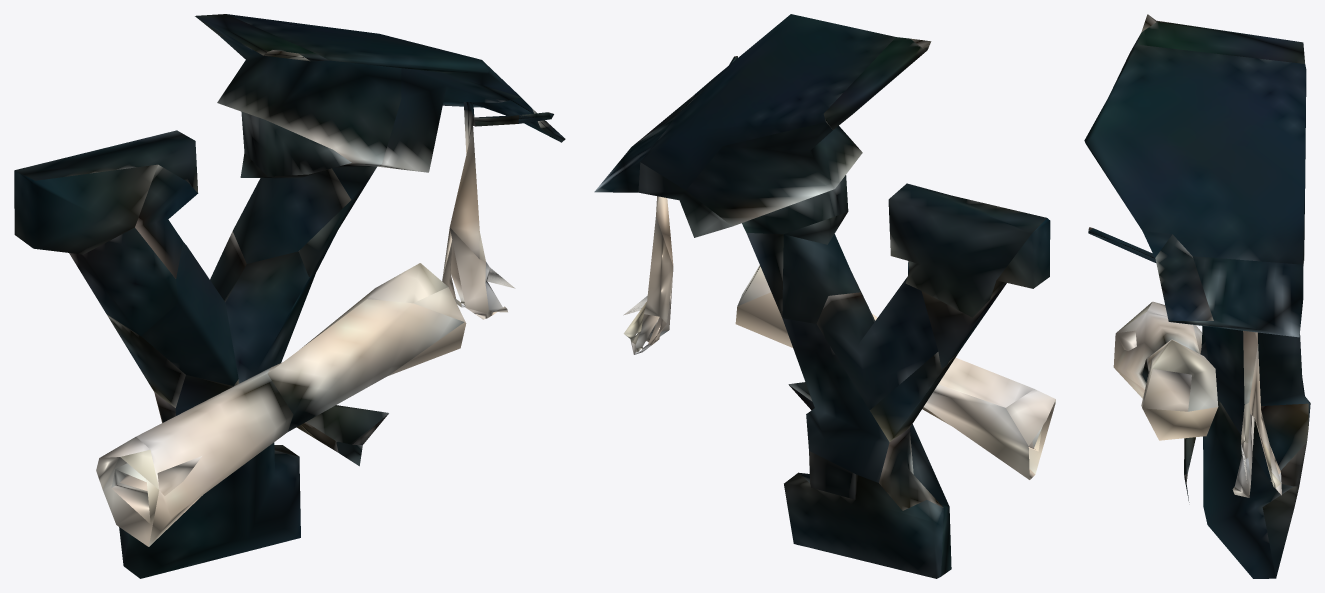
3 renders of one model, left to right at view 1: azimuth 30°, elevation 25°; view 2: azimuth 150°, elevation 25°; view 3: azimuth 270°, elevation 25°, orthographic. The views are drawn at different scales.
Parts seen in each view (by area): view 1: Graduation-Y; view 2: Graduation-Y; view 3: Graduation-Y.
Part boxes in pixels (x1,y1,x2,y2): Graduation-Y: (14, 14, 565, 578); Graduation-Y: (594, 14, 1055, 578); Graduation-Y: (1084, 14, 1310, 578).
Bounding box in the file's own units: 0.295 × 0.3122 × 0.1223.
Materials: 1 (1 with a texture image).
